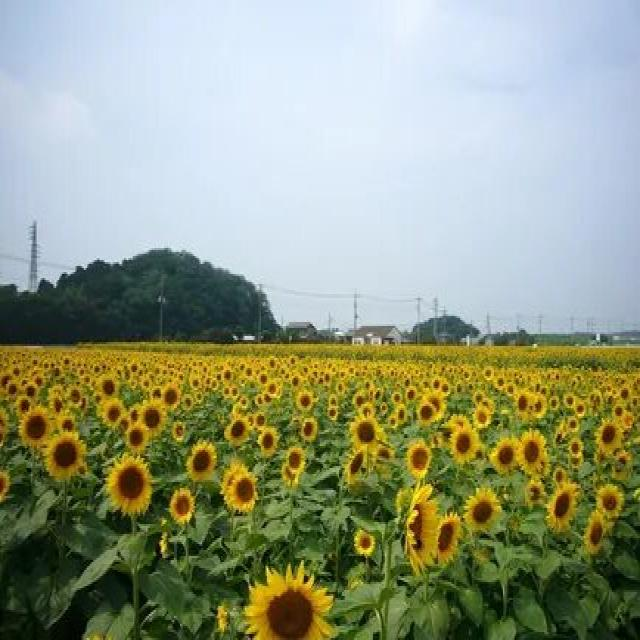sunflower: (239, 562, 338, 640), (402, 490, 447, 570), (102, 448, 153, 516), (44, 430, 90, 486), (15, 400, 60, 452), (224, 466, 261, 516), (514, 424, 548, 474), (547, 480, 577, 536), (134, 394, 170, 436), (450, 420, 482, 466), (401, 440, 432, 480), (592, 414, 620, 454), (226, 406, 249, 450), (408, 396, 436, 428), (96, 368, 119, 402)
